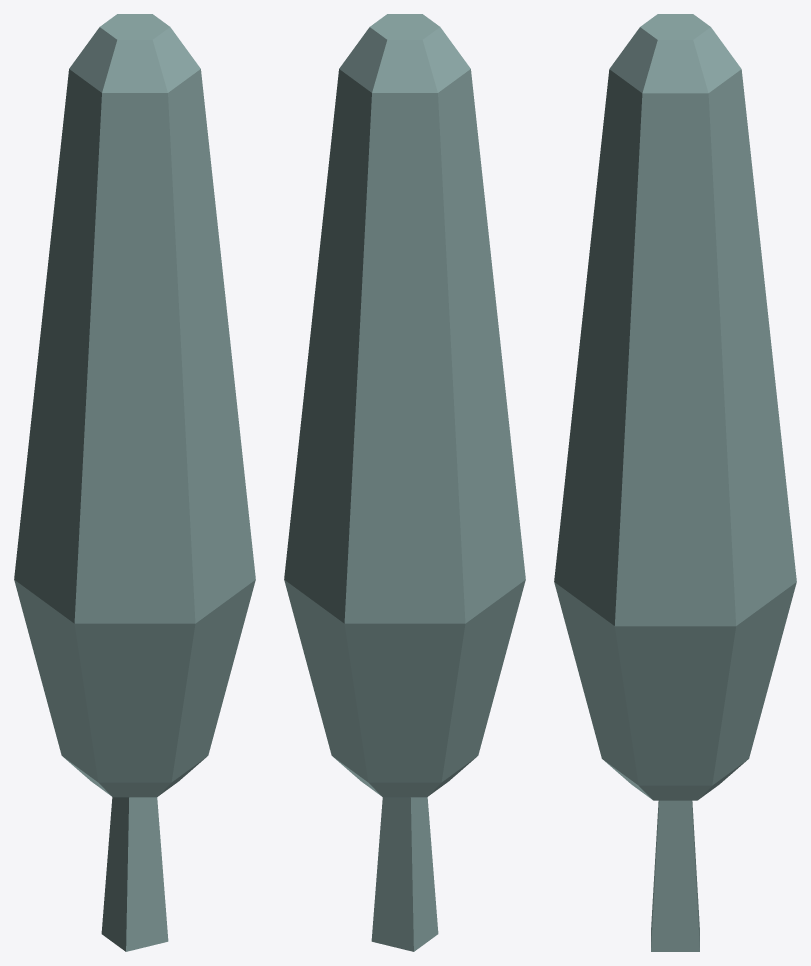
The model's file is naturePack_148.fbx.
3 renders of one model, left to right at view 1: azimuth 30°, elevation 25°; view 2: azimuth 150°, elevation 25°; view 3: azimuth 270°, elevation 25°, orthographic.
Parts seen in each view (by area): view 1: naturePack_148; view 2: naturePack_148; view 3: naturePack_148.
Part boxes in pixels (bbox=[...]): naturePack_148: bbox=[14, 14, 255, 951]; naturePack_148: bbox=[284, 14, 525, 951]; naturePack_148: bbox=[554, 14, 796, 951].
Size of the model in its own units: 172 by 825 by 198.
